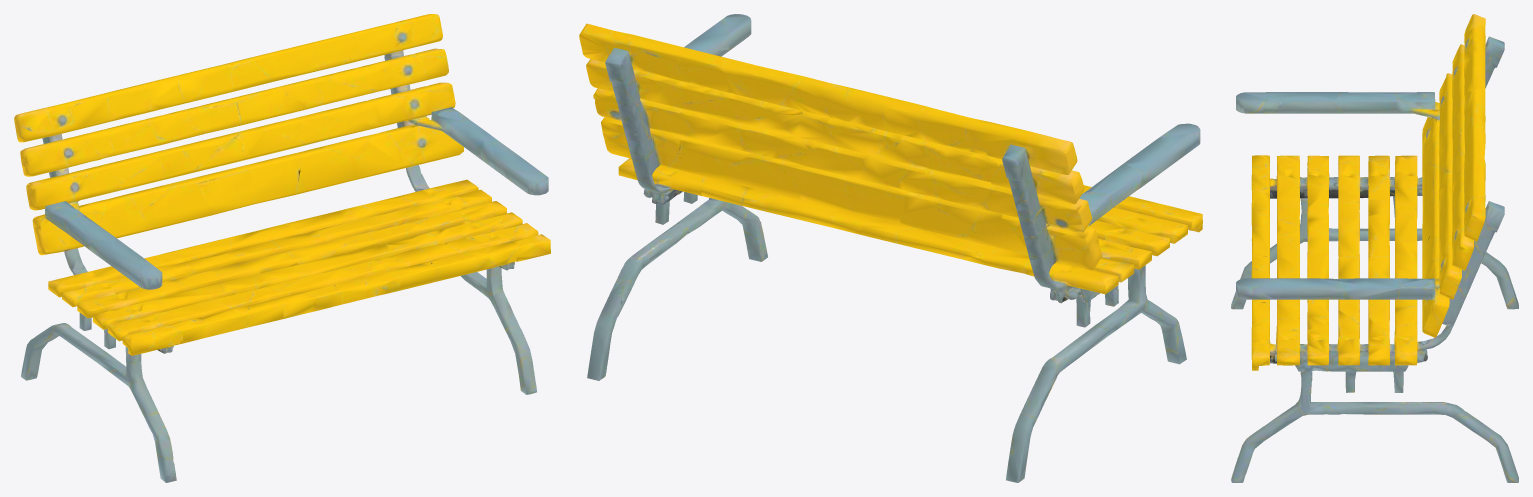
File: bench.glb
3 renders of one model, left to right at view 1: azimuth 30°, elevation 25°; view 2: azimuth 150°, elevation 25°; view 3: azimuth 270°, elevation 25°, orthographic. The views are drawn at different scales.
Bounding box in the file's own units: 1.9 × 1.23 × 1.14.
1 material, 1 textured.
